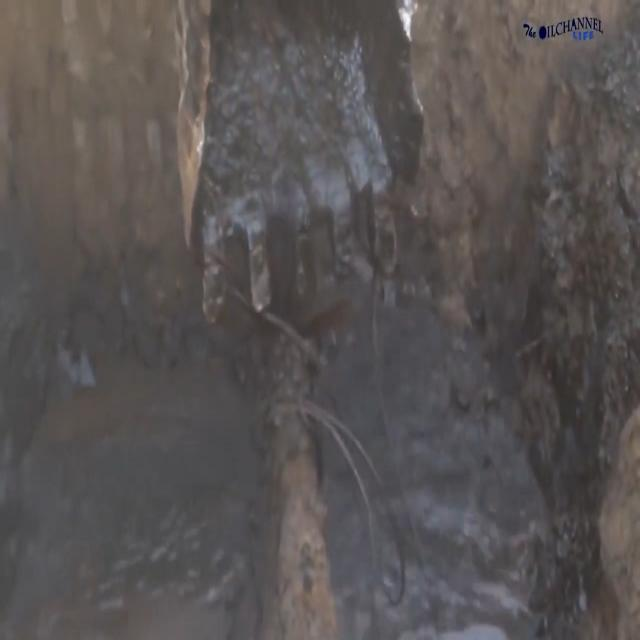spillage: (1, 375, 551, 640), (204, 44, 386, 202)
